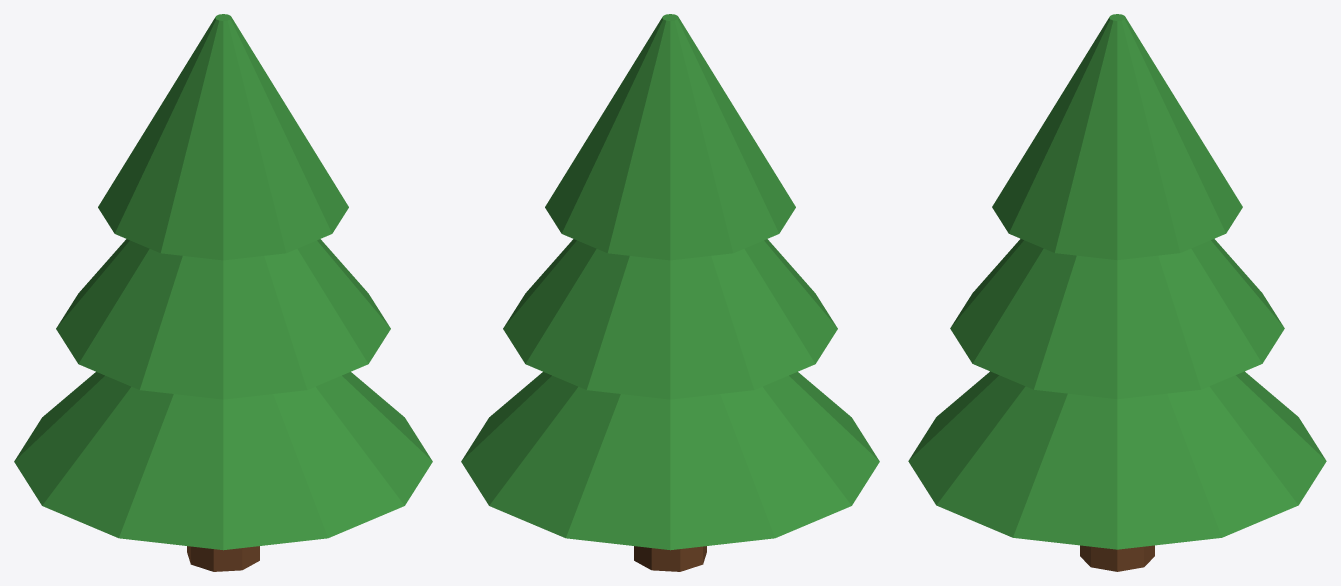
Rendered from tree_pine.glb.
3 renders of one model, left to right at view 1: azimuth 30°, elevation 25°; view 2: azimuth 150°, elevation 25°; view 3: azimuth 270°, elevation 25°, orthographic.
Parts seen in each view (by area): view 1: tree_pine; view 2: tree_pine; view 3: tree_pine.
Part boxes in pixels (bbox=[...]): tree_pine: bbox=[14, 14, 432, 571]; tree_pine: bbox=[461, 14, 879, 571]; tree_pine: bbox=[908, 14, 1326, 571].
Size of the model in its own units: 1 by 1.42 by 1.
